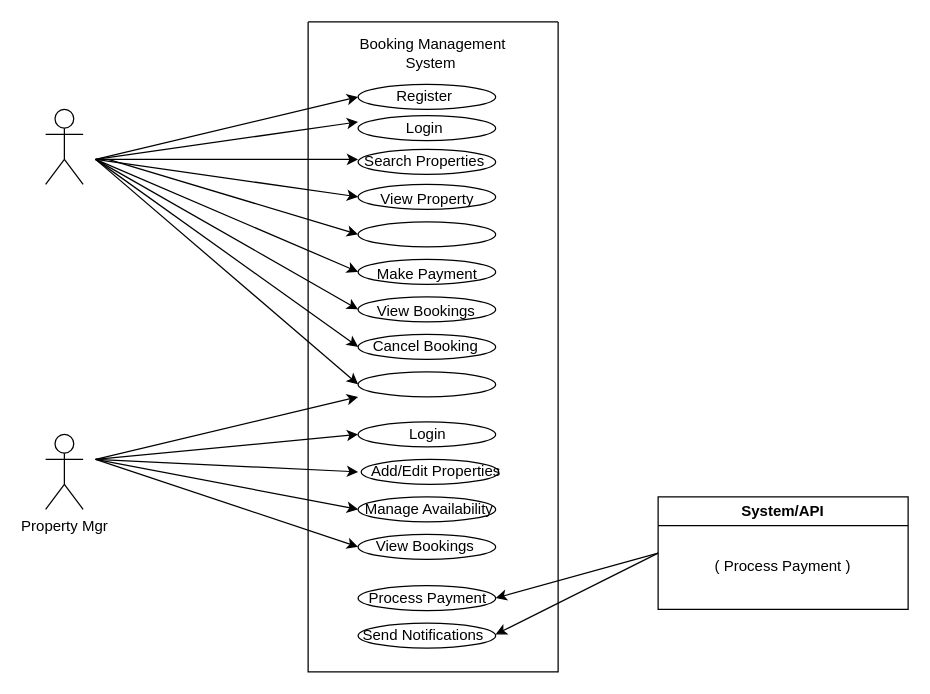
Some shapes in this 930 by 694 pixel diagram are drawn without their labels. Here are the shapes that lost their labels. From the top down, the centre of each, then its label:
At pixel 63 146: "Customer".
At pixel 426 234: "Book Property".
At pixel 426 384: "Receive Notifications".
